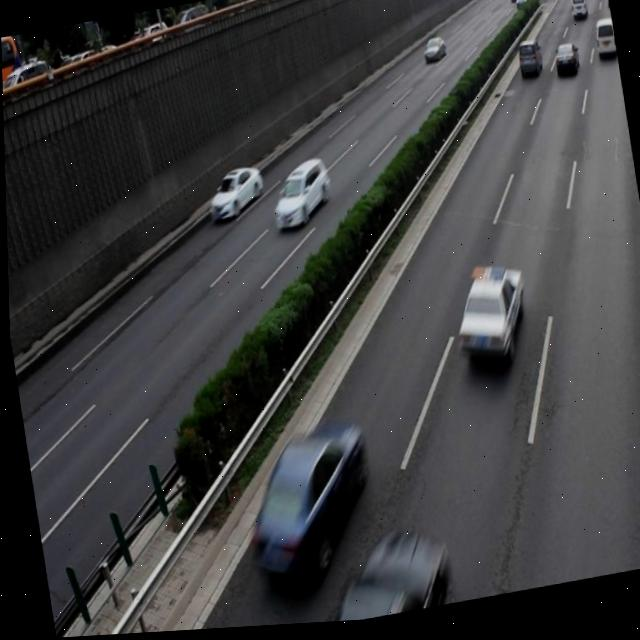car: (229, 422, 377, 596), (444, 265, 530, 377), (265, 158, 333, 235), (201, 163, 264, 224)
